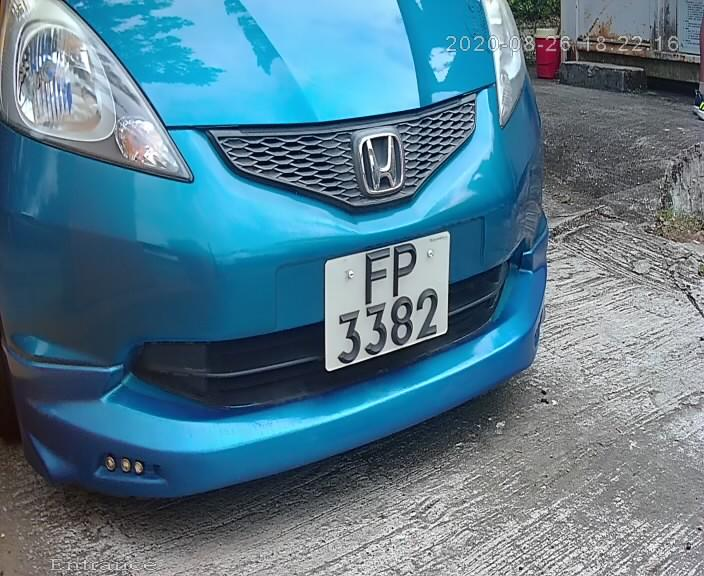License Plate: (304, 217, 468, 387)
